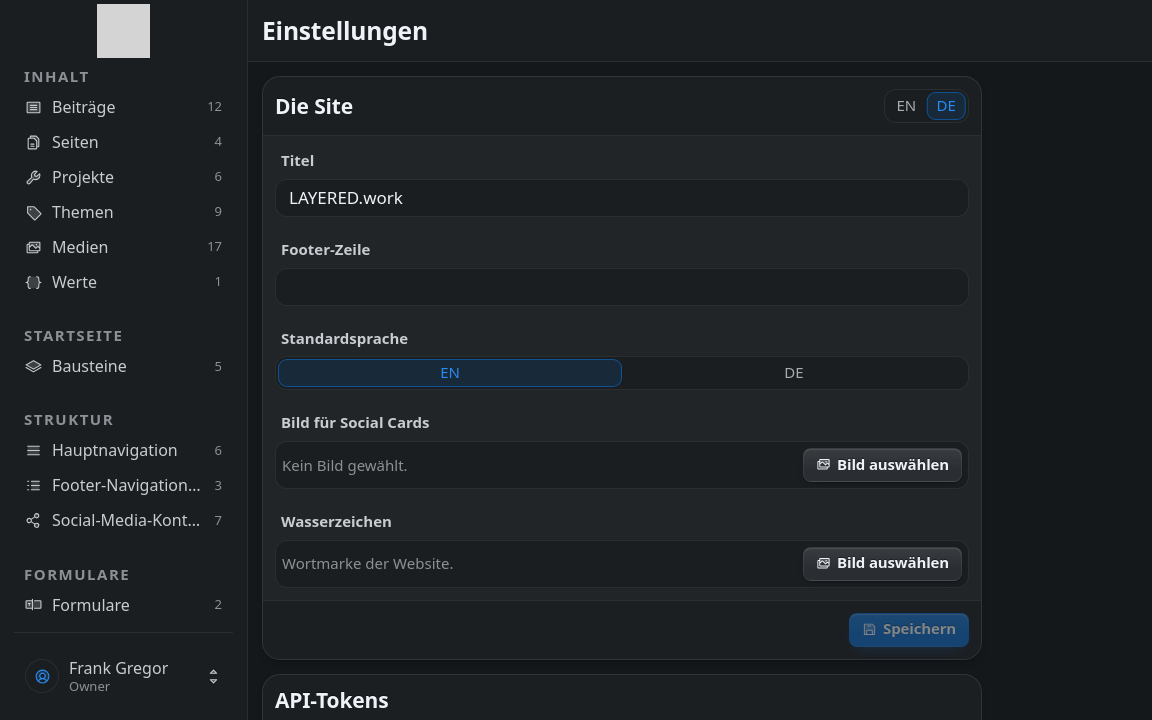
Test: dashboard shell › lets the owner change the site's title in both languages and save it
The width and height of the screenshot is (1152, 720).
Expected: the button "Speichern" is disabled, [849, 613, 969, 647]
Expected: the text "Wortmarke der Website." is shown, [282, 551, 453, 576]
Replace the text in the field labelled "Titel" with "LAYERED.werk": (622, 198) [275, 179, 969, 217]
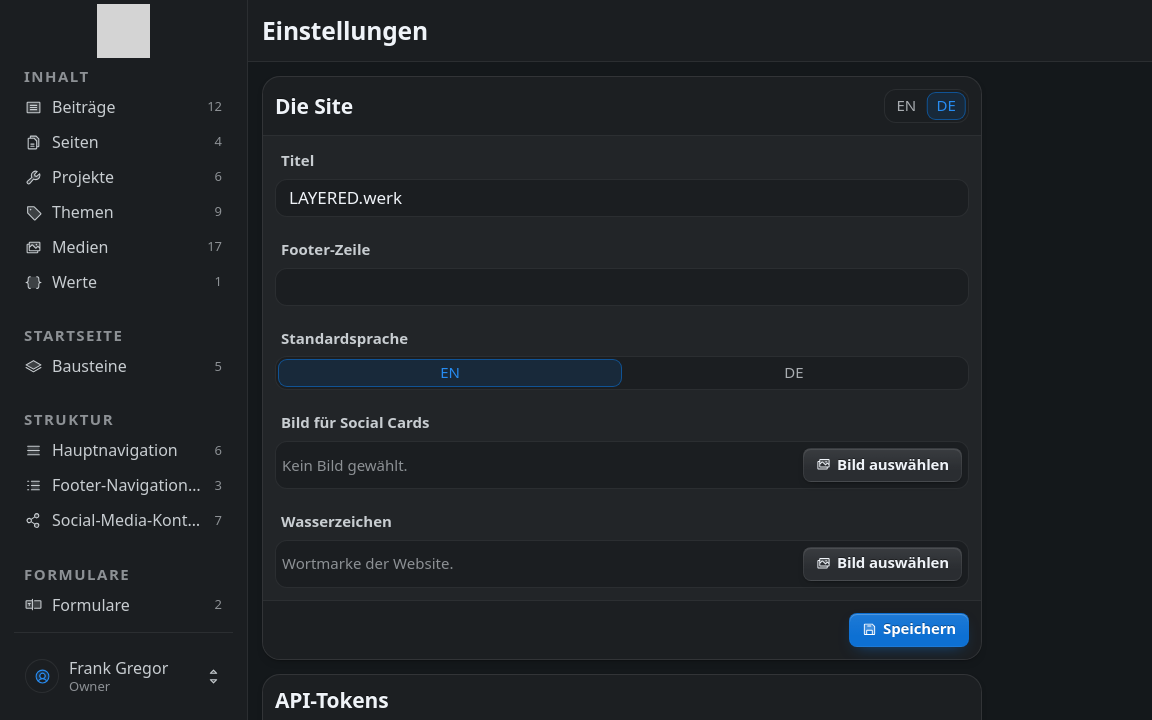
Result: the button "Speichern" is enabled
Click the button "Speichern": (909, 630) [849, 613, 969, 647]
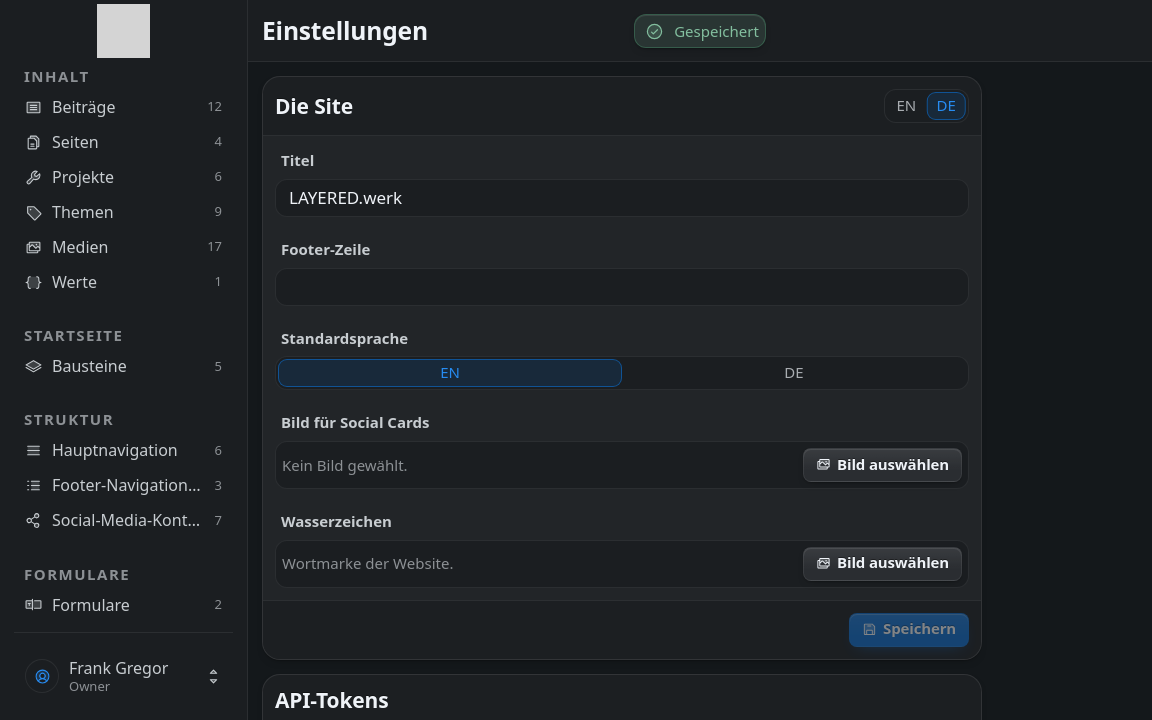
Result: the button "Speichern" is disabled at [849, 613, 969, 647]
